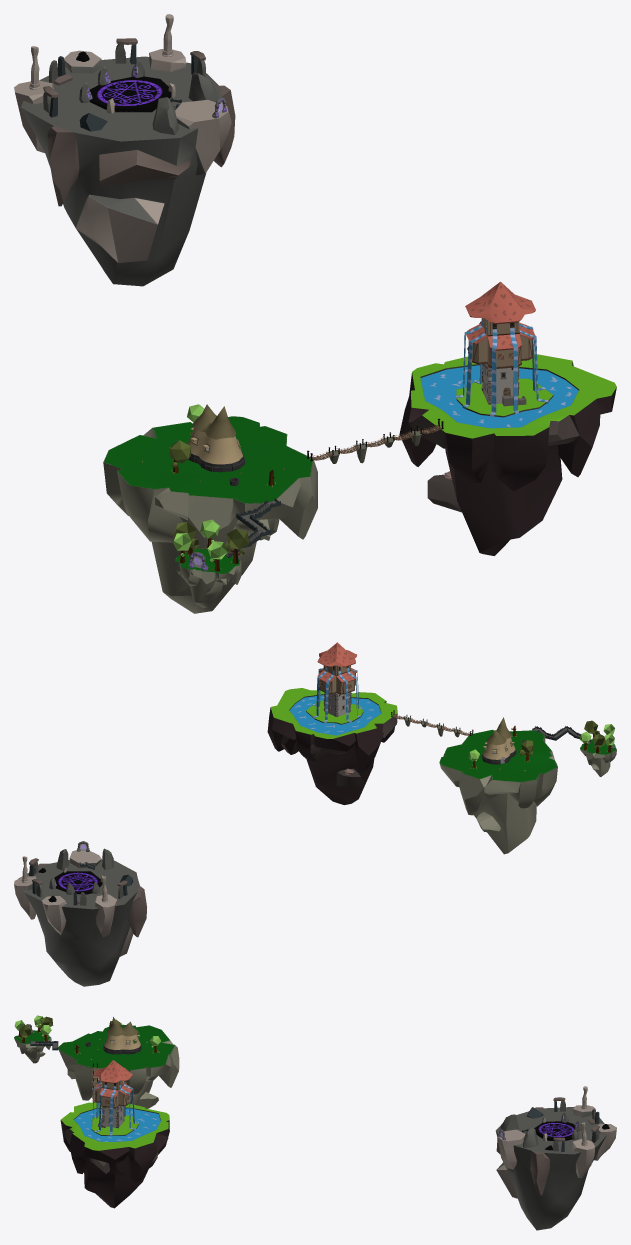
File: Fantasy_Islands_Delete.fbx
3 views of the same model, one above another, from view 1: azimuth 30°, elevation 25°; view 2: azimuth 150°, elevation 25°; view 3: azimuth 270°, elevation 25° (orthographic). The views are drawn at different scales.
Parts seen in each view (by area): view 1: IslaDragon; view 2: IslaDragon; view 3: IslaDragon.
Part boxes in pixels (left/top/right/bottom): IslaDragon: left=14, top=14, right=616, bottom=613; IslaDragon: left=14, top=642, right=616, bottom=986; IslaDragon: left=14, top=1015, right=616, bottom=1230.
Bounding box in the file's own units: 26447 × 14371 × 48744.
7 materials, 7 textured.
